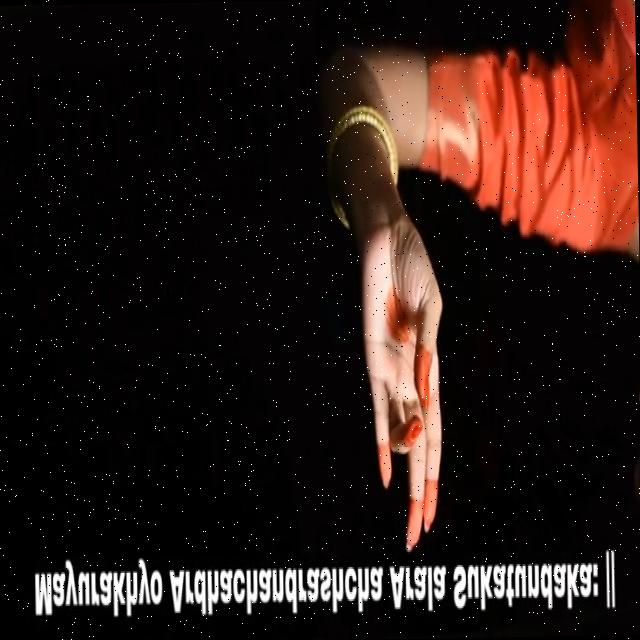Mayura: (346, 210, 459, 555)
bangle: (314, 85, 416, 186)
text: (18, 544, 624, 635)
